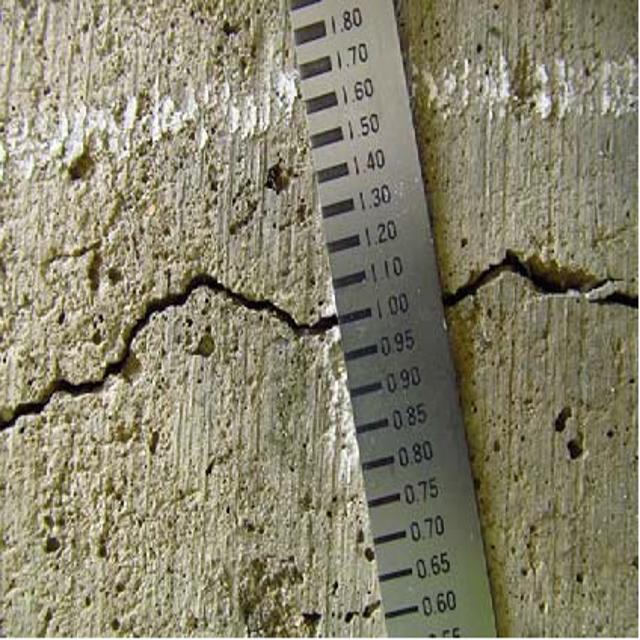crack: (7, 274, 327, 432), (450, 206, 639, 353)
